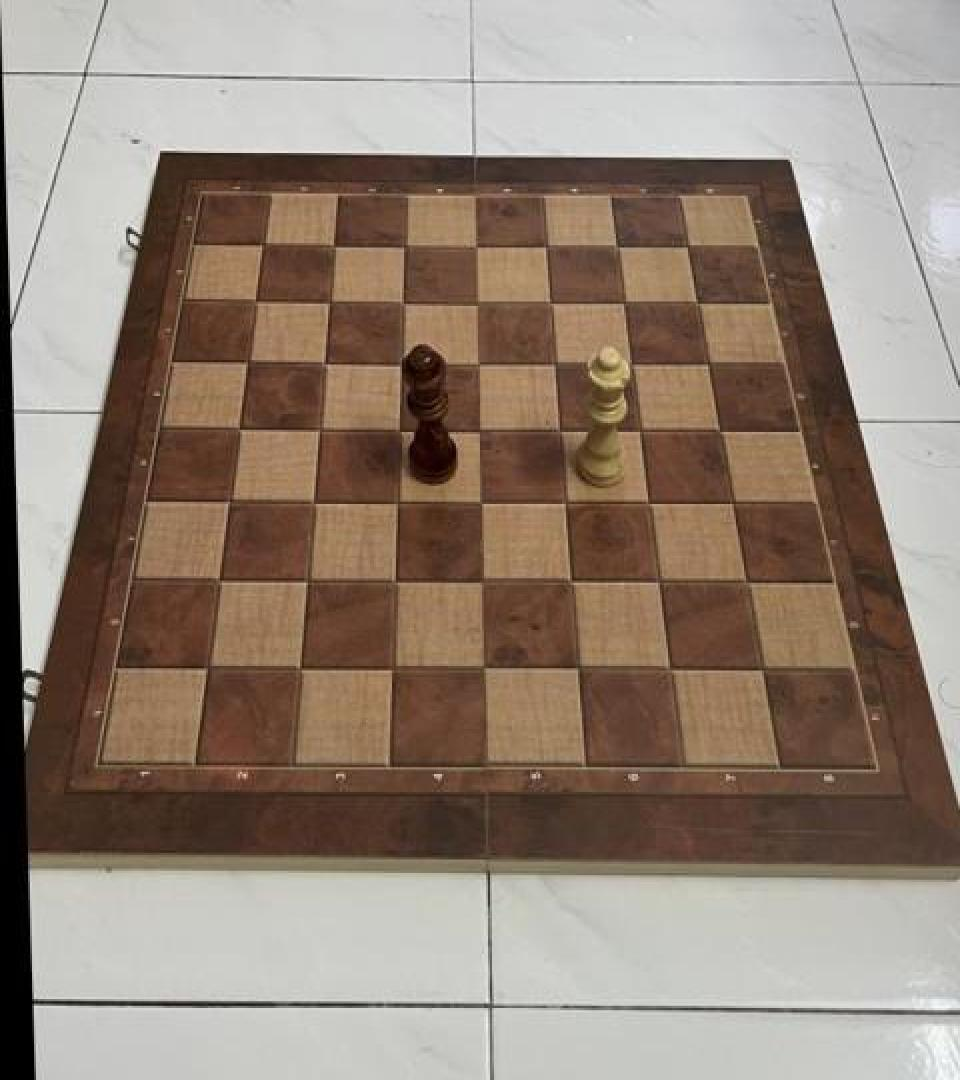xcorner: (669, 230, 701, 266), (598, 230, 630, 266), (527, 230, 559, 266), (456, 230, 488, 266), (386, 228, 418, 264), (315, 228, 347, 264), (244, 227, 276, 263), (680, 287, 712, 323), (606, 287, 638, 323), (532, 286, 564, 322), (458, 286, 490, 322), (385, 284, 417, 320), (311, 284, 343, 320), (237, 284, 269, 320), (691, 348, 723, 384), (614, 348, 646, 384), (537, 346, 569, 382), (460, 346, 492, 382), (384, 346, 416, 382), (307, 346, 339, 382), (230, 344, 262, 380), (703, 414, 735, 450), (623, 414, 655, 450), (543, 413, 575, 449), (463, 413, 495, 449), (383, 412, 415, 448), (303, 410, 335, 446), (223, 410, 255, 446), (716, 486, 748, 522), (632, 486, 664, 522), (549, 485, 581, 521), (465, 485, 497, 521), (382, 484, 414, 520), (298, 482, 330, 518), (214, 482, 246, 518), (731, 565, 763, 601), (643, 565, 675, 601), (555, 564, 587, 600), (468, 564, 500, 600), (380, 562, 412, 598), (293, 562, 325, 598), (205, 562, 237, 598), (747, 652, 779, 688), (655, 652, 687, 688), (563, 650, 595, 686), (471, 650, 503, 686), (379, 649, 411, 685), (287, 648, 319, 684), (195, 648, 227, 684)
